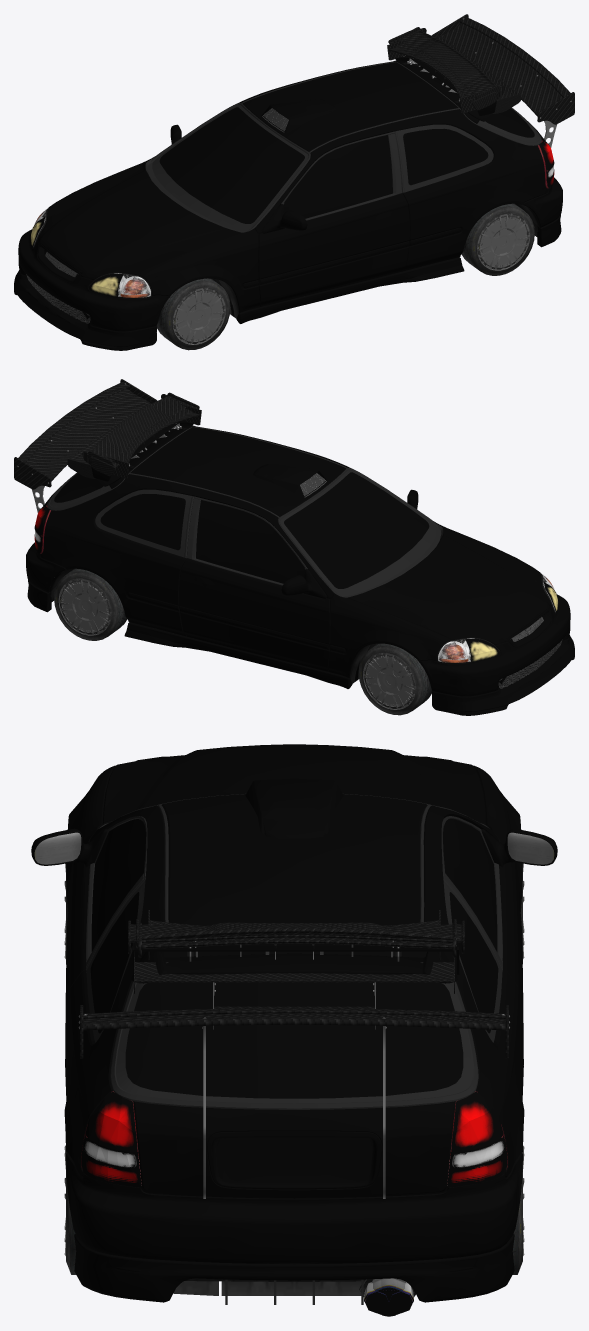
The model's file is Civic.fbx.
The picture shows the model from 3 angles, top to bottom: view 1: azimuth 30°, elevation 25°; view 2: azimuth 150°, elevation 25°; view 3: azimuth 270°, elevation 25°; orthographic projection. The views are drawn at different scales.
Parts seen in each view (by area): view 1: Civic, Hood, Spoiler5, FrontBumper_1, FrontBumper, FrontBumper2, Hood_1, Spoiler7, SideSkirt, W1_001, W1, W0_001 (+13 smaller); view 2: Civic, Hood, Spoiler5, FrontBumper_1, FrontBumper, Hood_1, Spoiler7, W1_002, FrontBumper2, SideSkirt, W1_003, W0_003 (+12 smaller); view 3: Civic, RearBumper2, RearBumper, Hood, RearBumper1, Spoiler5, Light_Stop, Spoiler7, Spoiler3, Spoiler1, Scope1, Hood_1 (+9 smaller).
Boxes of the visible parts, box(x1,y1,x2,y2) form: Civic: box(32, 61, 548, 318); Hood: box(37, 163, 239, 280); Spoiler5: box(397, 14, 574, 147); FrontBumper_1: box(14, 230, 167, 346); FrontBumper: box(18, 229, 171, 332); FrontBumper2: box(14, 241, 170, 350); Hood_1: box(37, 163, 241, 280); Spoiler7: box(396, 27, 500, 122); SideSkirt: box(236, 257, 462, 320); W1_001: box(462, 203, 531, 272); W1: box(158, 285, 227, 346); W0_001: box(461, 203, 534, 275); Civic: box(40, 426, 555, 683); Hood: box(349, 528, 551, 645); Spoiler5: box(14, 379, 191, 512); FrontBumper_1: box(418, 596, 574, 711); FrontBumper: box(418, 595, 570, 696); Hood_1: box(347, 528, 551, 645); Spoiler7: box(87, 392, 192, 486); W1_002: box(57, 575, 127, 637); FrontBumper2: box(429, 594, 574, 715); SideSkirt: box(126, 622, 352, 685); W1_003: box(361, 643, 431, 711); W0_003: box(358, 643, 432, 715); Civic: box(31, 757, 557, 1281); RearBumper2: box(67, 1154, 520, 1304); RearBumper: box(66, 1154, 522, 1271); Hood: box(104, 744, 486, 823); RearBumper1: box(66, 1152, 522, 1273); Spoiler5: box(78, 951, 510, 1198); Light_Stop: box(85, 1091, 503, 1152); Spoiler7: box(136, 919, 456, 957); Spoiler3: box(134, 951, 454, 1029); Spoiler1: box(131, 951, 457, 983); Scope1: box(245, 778, 343, 838); Hood_1: box(102, 744, 485, 824).
Size of the model in its own units: 3.41 by 1.16 by 1.57.
